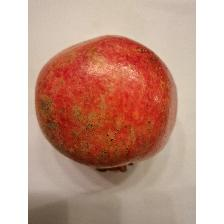Granatapfel: (33, 34, 182, 174)
